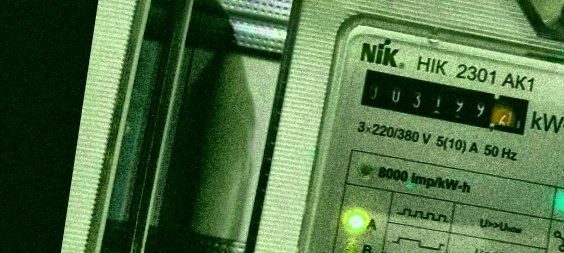0: (364, 79, 379, 101), (387, 82, 402, 103)
1: (431, 88, 443, 109)
3: (408, 88, 422, 108)
6: (496, 110, 508, 127)
9: (451, 92, 465, 114), (472, 97, 485, 118)
screen: (350, 63, 538, 143)
